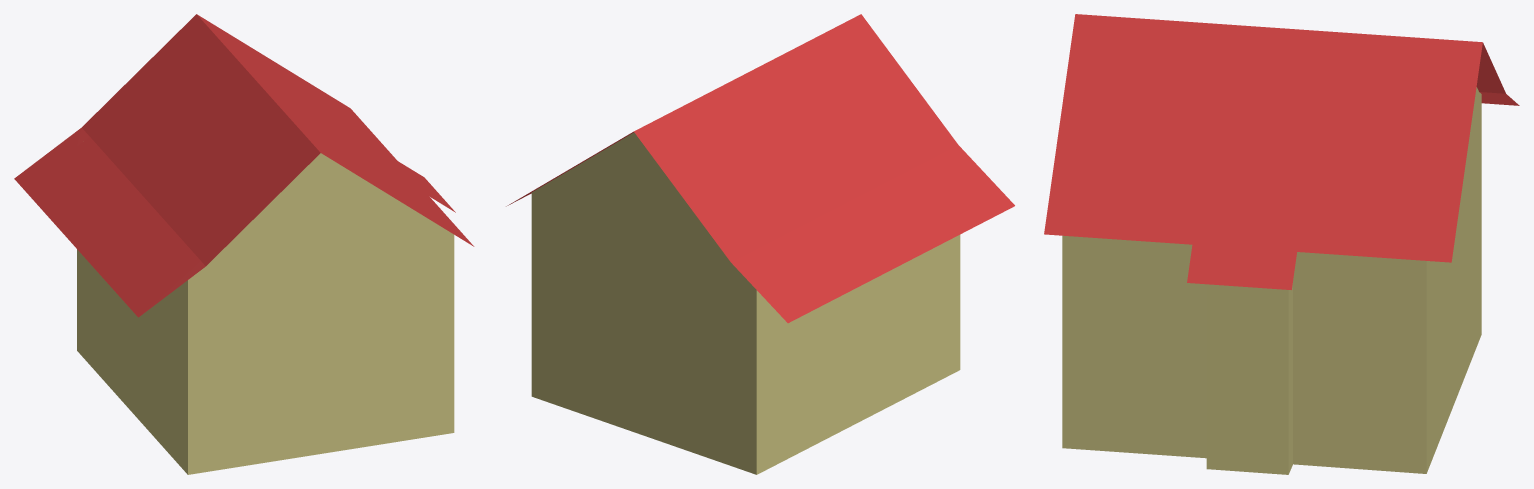
The picture shows the model from 3 angles, left to right: view 1: azimuth 30°, elevation 25°; view 2: azimuth 150°, elevation 25°; view 3: azimuth 270°, elevation 25°; orthographic projection. The views are drawn at different scales.
Size of the model in its own units: 17.64 by 17.07 by 14.28.
